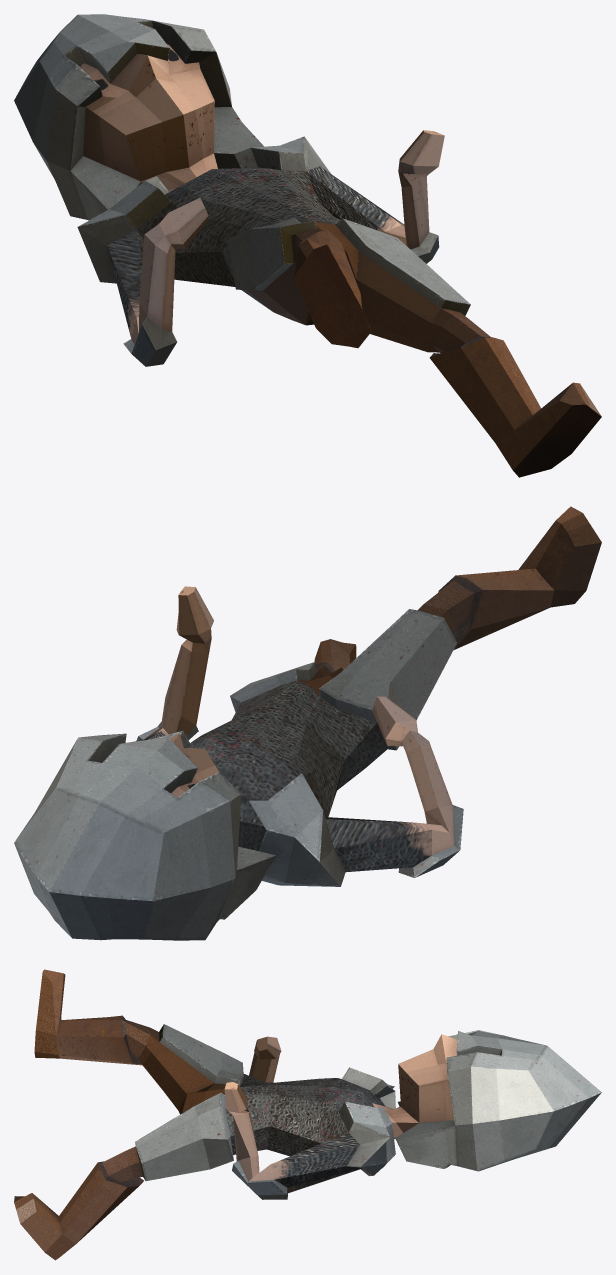
Rendered from Walk_Soldier_4.obj.
3 views of the same model, one above another, from view 1: azimuth 30°, elevation 25°; view 2: azimuth 150°, elevation 25°; view 3: azimuth 270°, elevation 25° (orthographic). The views are drawn at different scales.
Visible parts, largest first — view 1: Soldado_LowPolySTD; view 2: Soldado_LowPolySTD; view 3: Soldado_LowPolySTD.
Part boxes in pixels (left/top/right/bottom): Soldado_LowPolySTD: left=14, top=14, right=601, bottom=477; Soldado_LowPolySTD: left=14, top=506, right=601, bottom=940; Soldado_LowPolySTD: left=14, top=969, right=601, bottom=1260.
Bounding box in the file's own units: 1.28 × 1.18 × 2.99.
